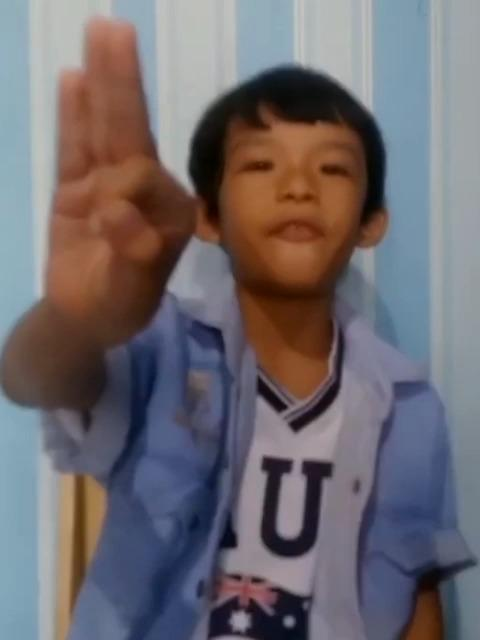F: (42, 13, 202, 343)
